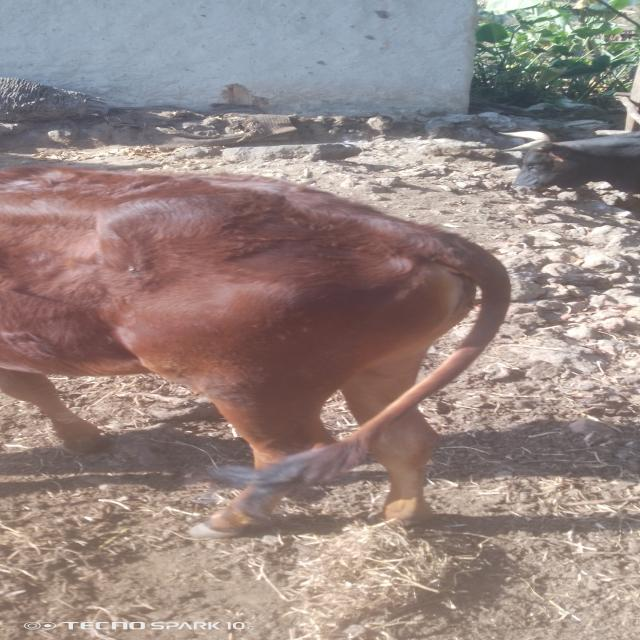Rear: (3, 166, 508, 538)
